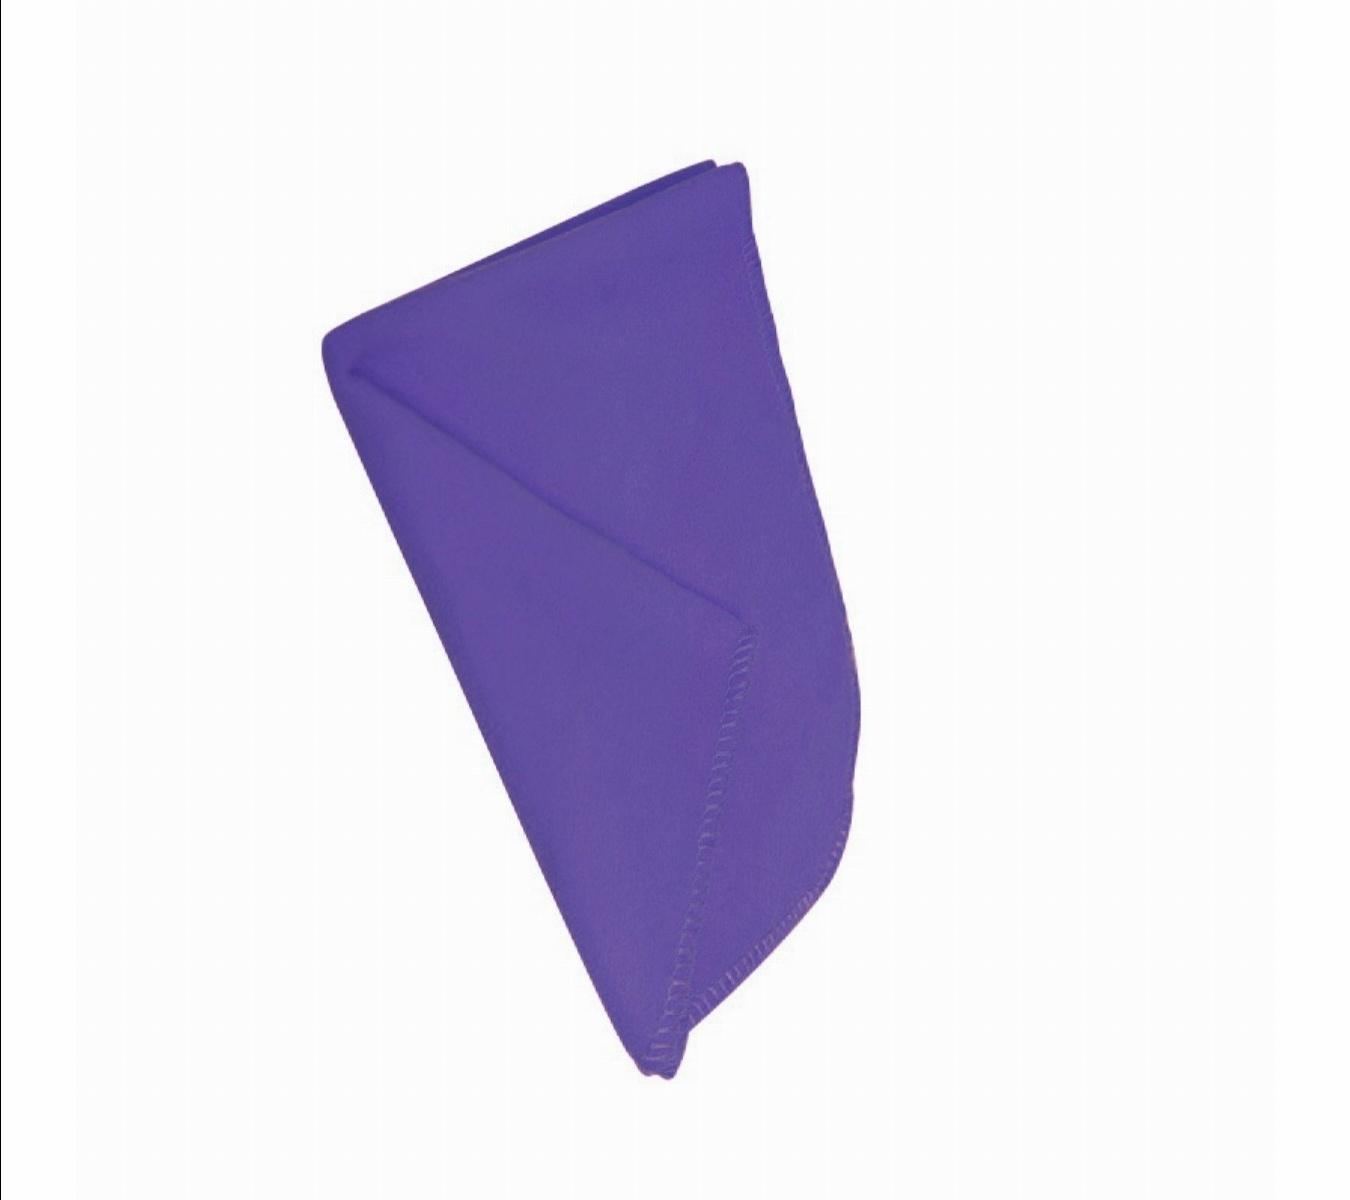towel: (257, 102, 942, 1131)
